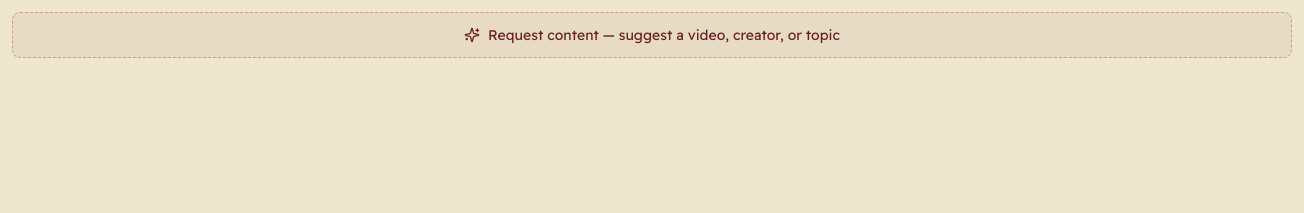
Test: getting to the form › opens into the form
The width and height of the screenshot is (1304, 213).
Click the button "Request content — suggest a video, creator, or topic".
click(652, 35)  # box [12,12,1292,58]
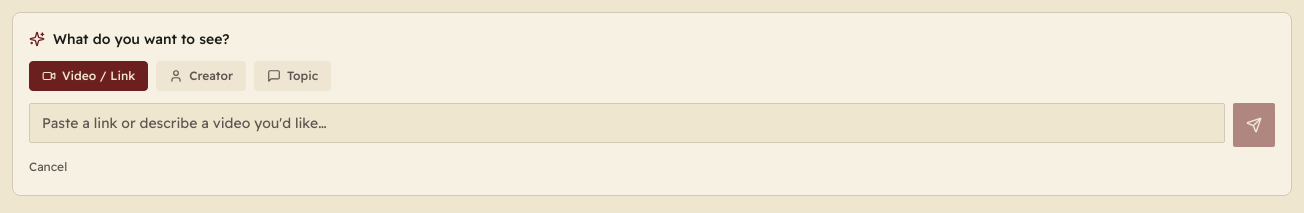
Expected: the text "What do you want to see?" is shown, [53,29,230,49]
Expected: the field is shown, [29,103,1225,143]
